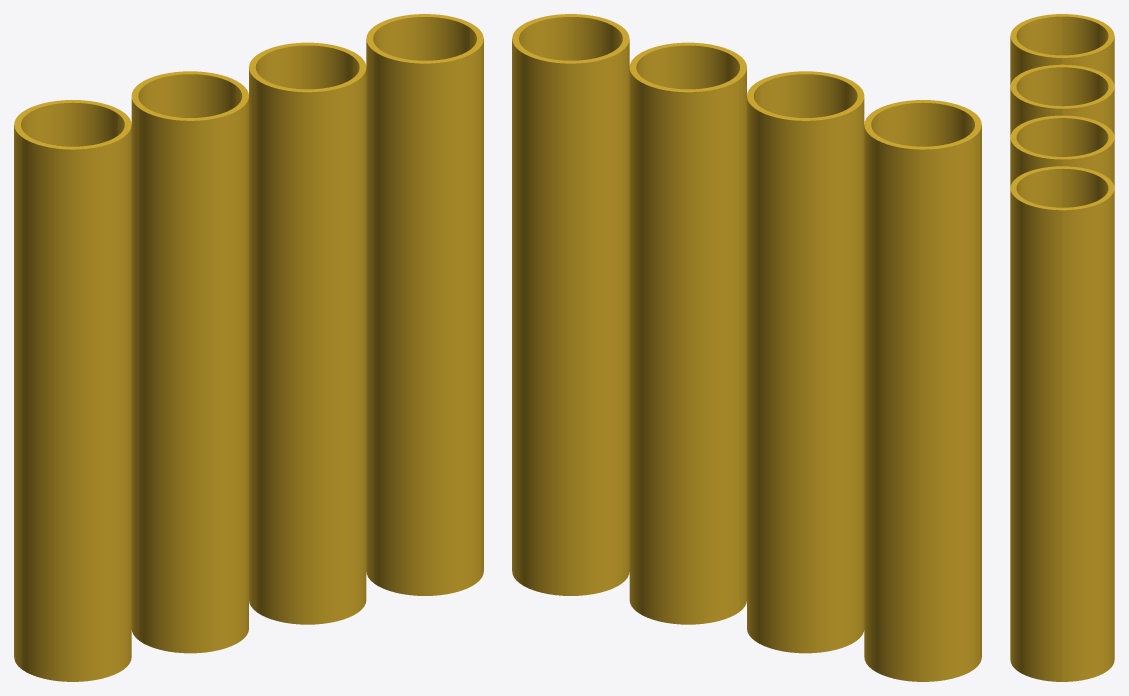
Rendered from ultrafiltration_system_pressure.glb.
The picture shows the model from 3 angles, left to right: view 1: azimuth 30°, elevation 25°; view 2: azimuth 150°, elevation 25°; view 3: azimuth 270°, elevation 25°; orthographic projection. The views are drawn at different scales.
Visible parts, largest first — view 1: press__front, press__back; view 2: press__back, press__front; view 3: press__back, press__front.
Part boxes in pixels (<box>): press__front: <box>22,26,483,681</box>; press__back: <box>14,14,475,668</box>; press__back: <box>512,26,973,681</box>; press__front: <box>520,14,981,668</box>; press__back: <box>1062,14,1114,681</box>; press__front: <box>1010,14,1062,681</box>.
Bounding box in the file's own units: 1.16 × 1.3 × 0.26.
